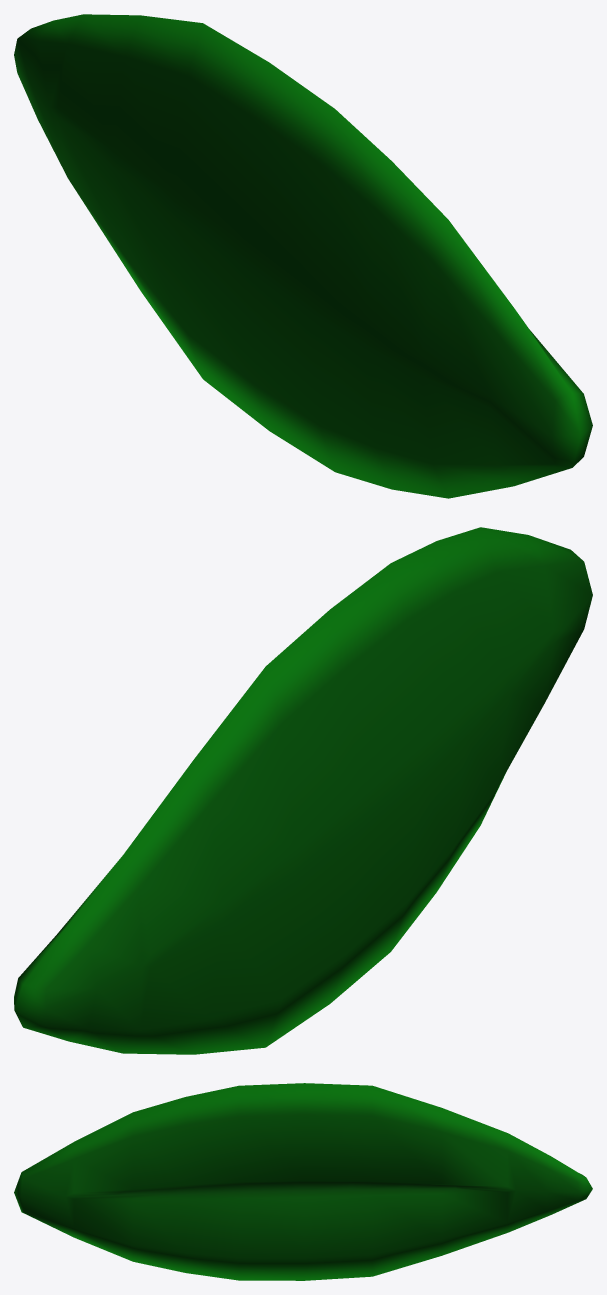
The model's file is Flower_Leaf.fbx.
3 renders of one model, top to bottom at view 1: azimuth 30°, elevation 25°; view 2: azimuth 150°, elevation 25°; view 3: azimuth 270°, elevation 25°, orthographic. The views are drawn at different scales.
Visible parts, largest first — view 1: Leaf; view 2: Leaf; view 3: Leaf.
Boxes of the visible parts, x1,y1,x2,y2 form: Leaf: (14, 14, 592, 498); Leaf: (14, 527, 592, 1054); Leaf: (14, 1083, 592, 1280).
Bounding box in the file's own units: 12.02 × 46.88 × 124.
